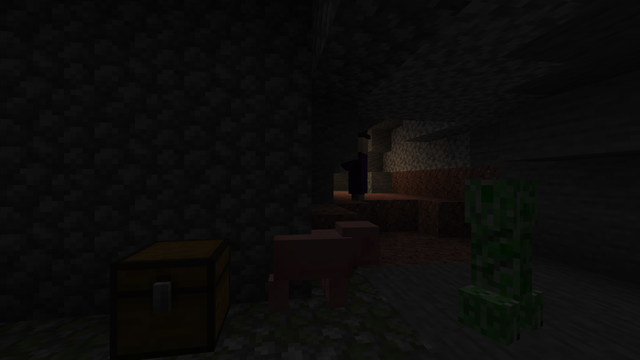cochons: (278, 225, 352, 317)
creepers: (457, 171, 549, 342)
sorcieres: (345, 134, 370, 200)
